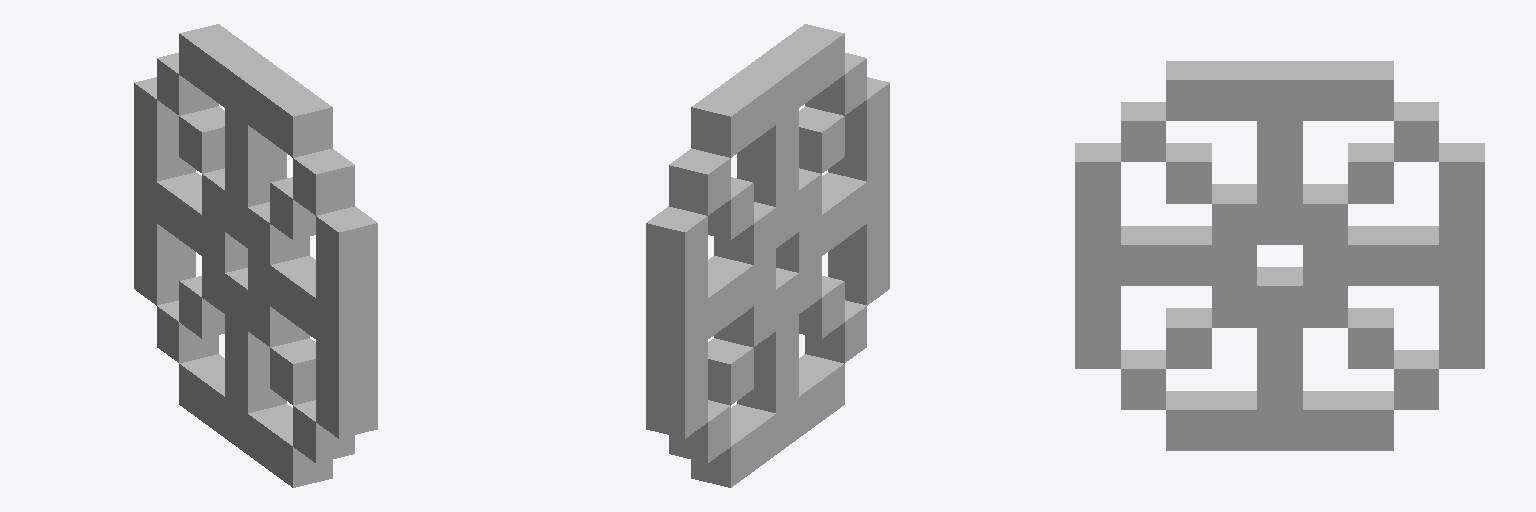
The model's file is Wheel.obj.
The picture shows the model from 3 angles: view 1: azimuth 30°, elevation 25°; view 2: azimuth 150°, elevation 25°; view 3: azimuth 270°, elevation 25°; orthographic projection.
Parts seen in each view (by area): view 1: object 1; view 2: object 1; view 3: object 1.
Boxes of the visible parts, <box> form: object 1: <box>134,24,377,487</box>; object 1: <box>646,24,889,487</box>; object 1: <box>1075,61,1484,450</box>.
Size of the model in its own units: 0.1 by 0.9 by 0.9.